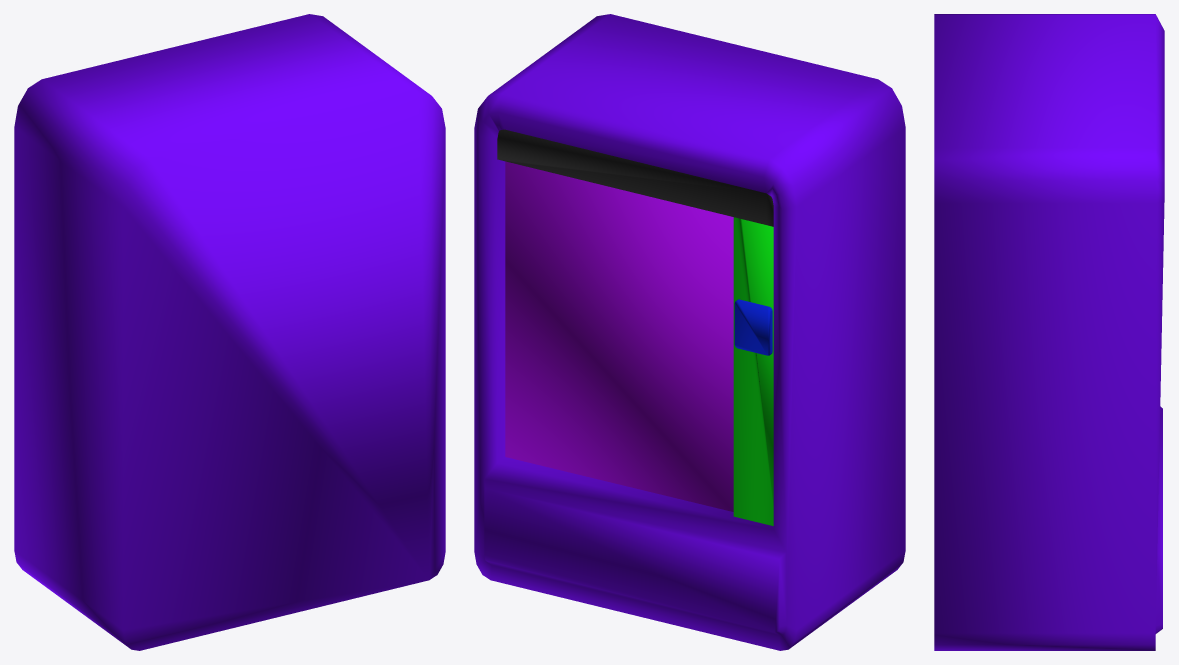
Rendered from Token_Vending_Proto.fbx.
3 renders of one model, left to right at view 1: azimuth 30°, elevation 25°; view 2: azimuth 150°, elevation 25°; view 3: azimuth 270°, elevation 25°, orthographic.
Visible parts, largest first — view 1: Cube; view 2: Cube; view 3: Cube.
Part boxes in pixels (x1,y1,x2,y2): Cube: [14, 14, 445, 650]; Cube: [474, 14, 905, 650]; Cube: [934, 14, 1164, 650].
Size of the model in its own units: 234 by 339 by 142.
